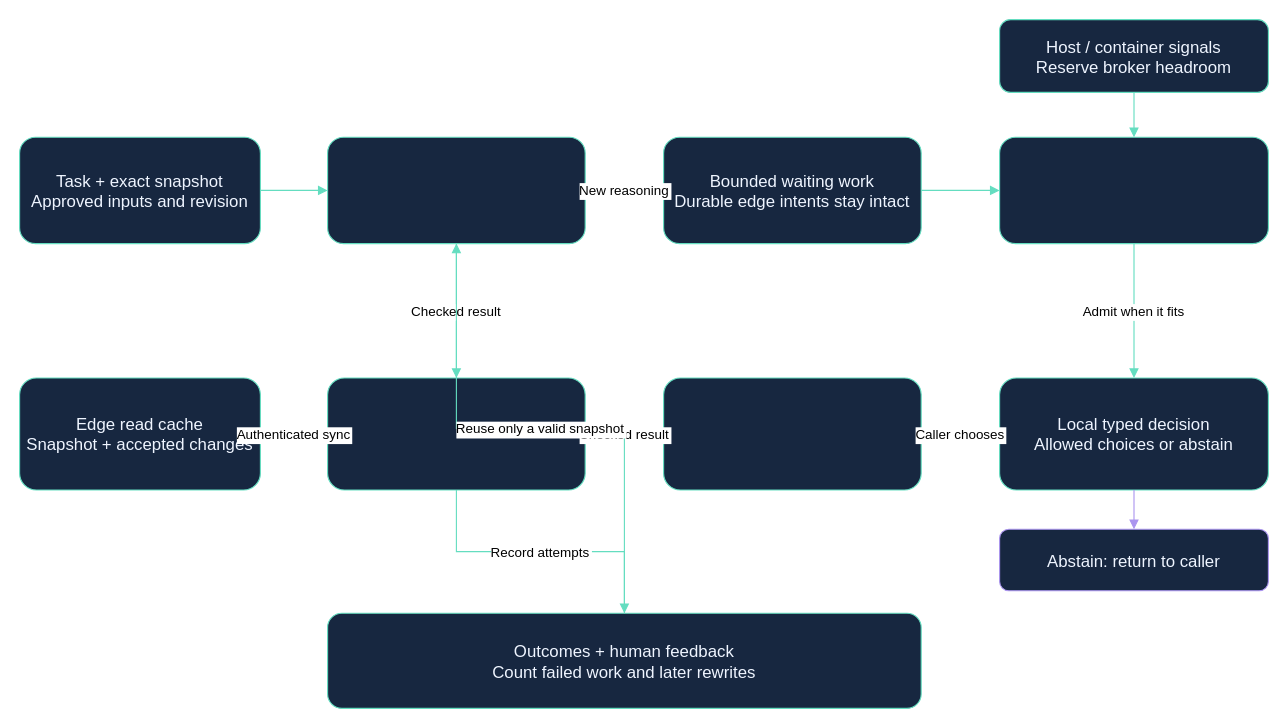
The diagram is 1288 pixels wide and 728 high, and some of its shapes have lost their labels. The centre of each missing label's shape, as x and y in pixels:
Adaptive admission CPU, memory and lane limits: pixel 1133 190
Authoritative broker CAS + immutable retry receipts: pixel 455 433
Local reasoning Explicit task, model and checks: pixel 791 433
Reuse / checked edit No new model call when valid: pixel 455 190
